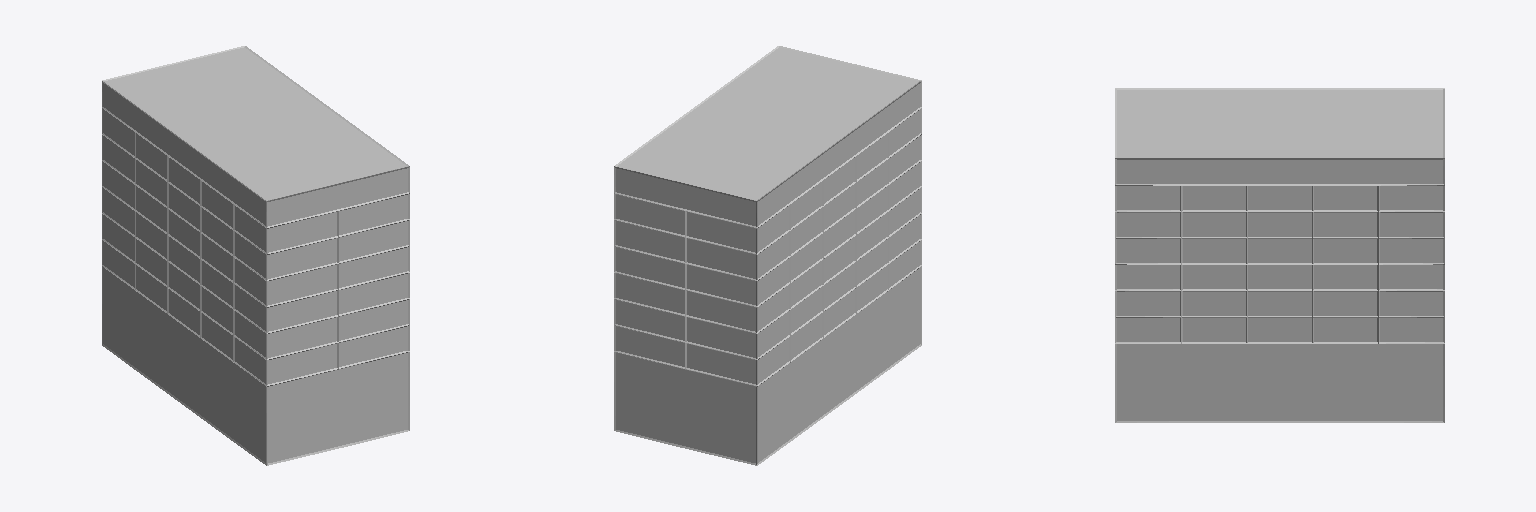
File: building01.obj
The picture shows the model from 3 angles: view 1: azimuth 30°, elevation 25°; view 2: azimuth 150°, elevation 25°; view 3: azimuth 270°, elevation 25°; orthographic projection.
Visible parts, largest first — view 1: Cube; view 2: Cube; view 3: Cube.
Part boxes in pixels (x1,y1,x2,y2): Cube: (102, 46, 409, 465); Cube: (614, 46, 921, 465); Cube: (1115, 88, 1444, 422).
Bounding box in the file's own units: 2.03 × 3.57 × 4.03.